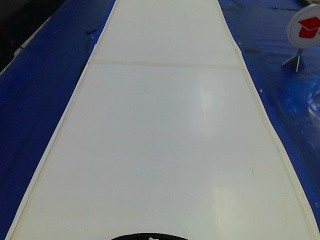school: (286, 0, 318, 47)
